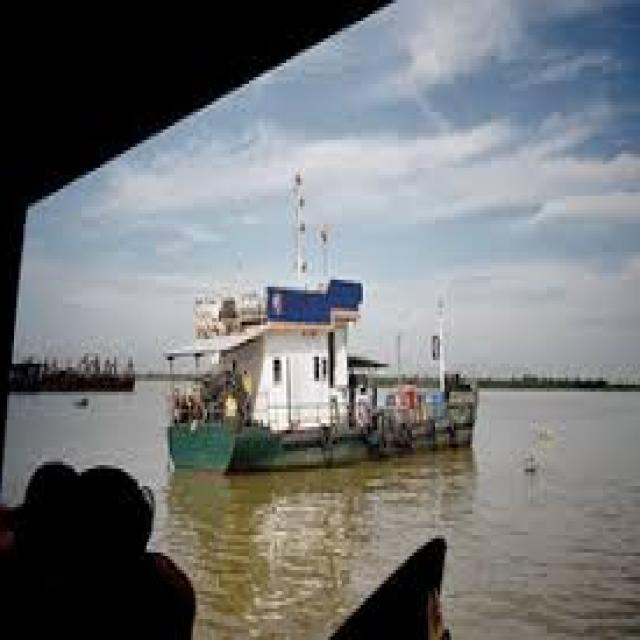fishing boat: (171, 213, 495, 470)
